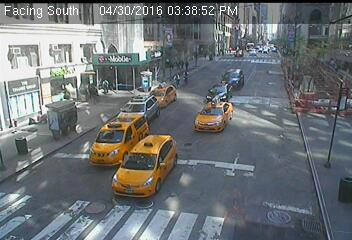neg: (5, 129, 28, 160), (137, 71, 152, 91), (179, 68, 193, 85), (59, 111, 72, 128), (171, 71, 182, 85), (236, 46, 246, 59)
pos: (82, 80, 102, 106), (98, 77, 111, 95)
